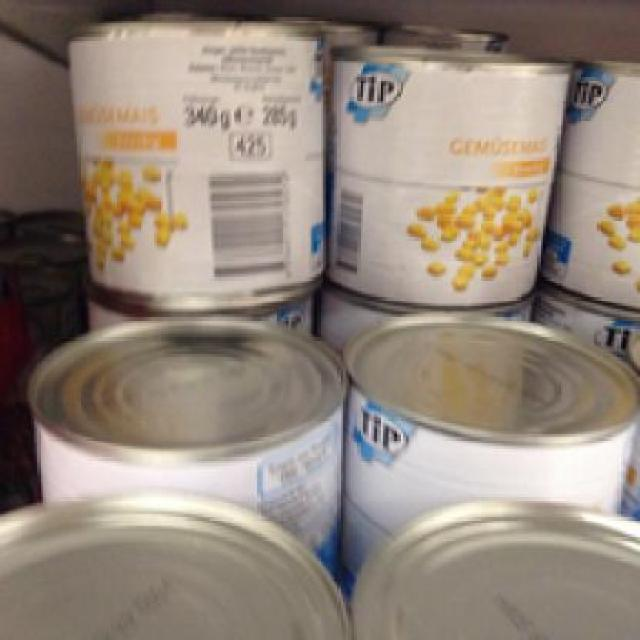Corn: (66, 10, 332, 306), (320, 40, 574, 300)
